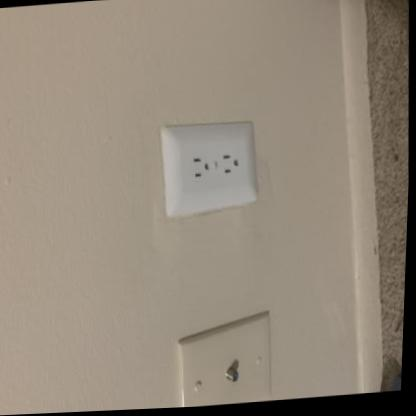OUTLET: (157, 117, 261, 214)
